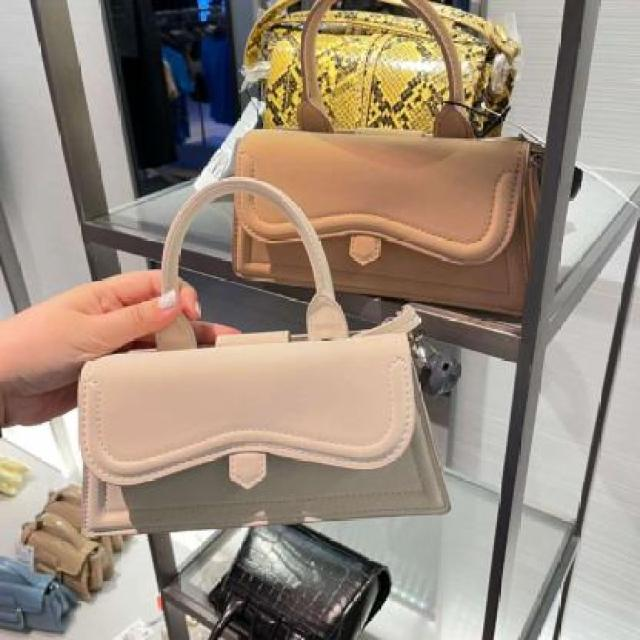Bag: (51, 134, 452, 586), (234, 1, 574, 347)
